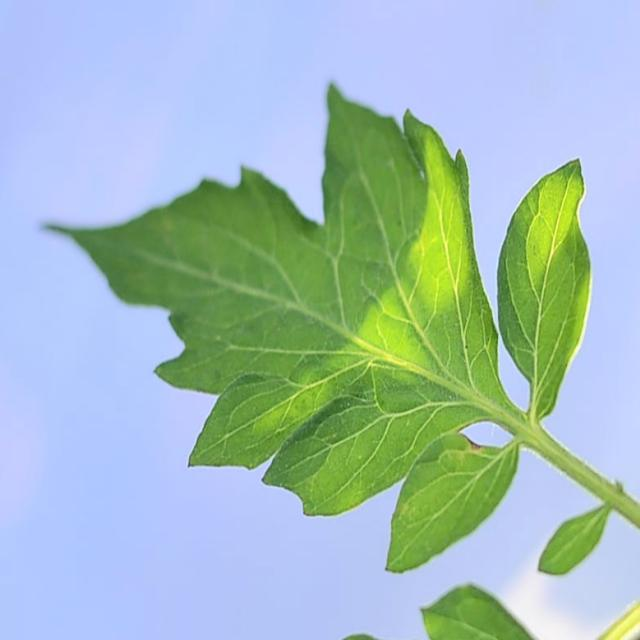healthy: (39, 79, 608, 574)
